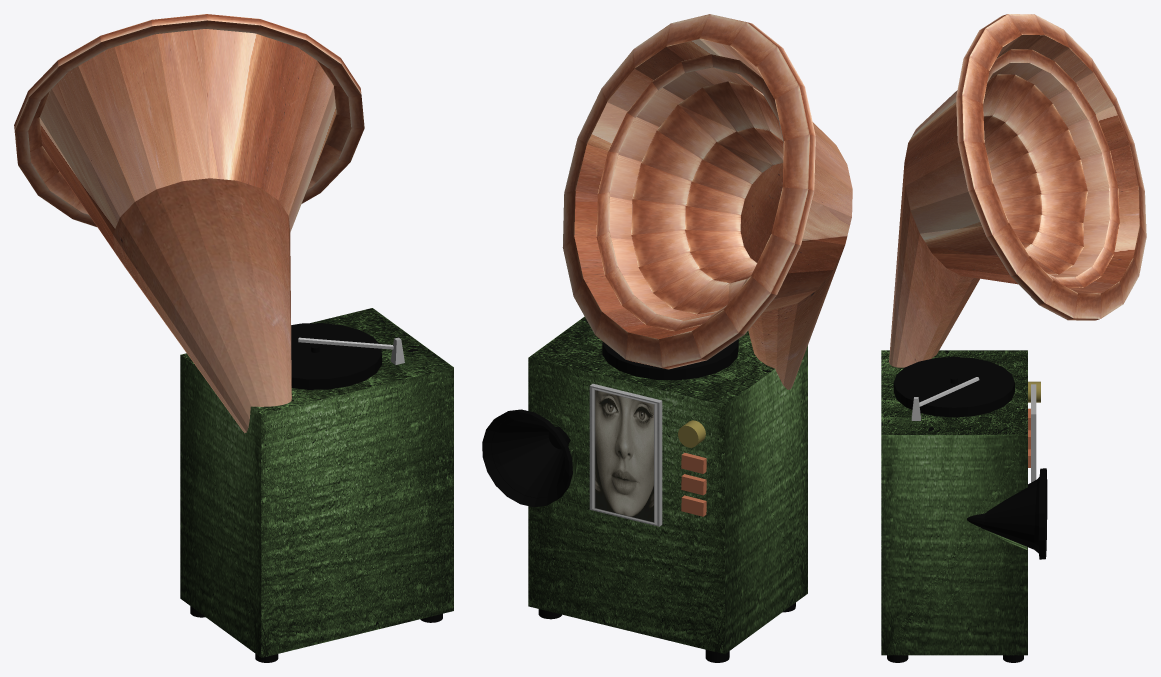
Rendered from stereo.fbx.
The picture shows the model from 3 angles, left to right: view 1: azimuth 30°, elevation 25°; view 2: azimuth 150°, elevation 25°; view 3: azimuth 270°, elevation 25°; orthographic projection. The views are drawn at different scales.
Parts seen in each view (by area): view 1: pCone4, pCone3, dial; view 2: pCone4, pCone3, screen, pCone2, dial, nob_volume; view 3: pCone4, pCone3, dial, pCone2, screen.
Boxes of the visible parts, <box> form: pCone4: <box>14,14,364,432</box>; pCone3: <box>180,308,453,657</box>; dial: <box>291,323,381,389</box>; pCone4: <box>562,14,852,389</box>; pCone3: <box>528,316,807,654</box>; screen: <box>589,383,662,526</box>; pCone2: <box>482,409,572,507</box>; dial: <box>602,339,738,380</box>; nob_volume: <box>678,420,705,447</box>; pCone4: <box>889,14,1146,367</box>; pCone3: <box>881,350,1027,655</box>; dial: <box>893,356,1014,417</box>; pCone2: <box>967,468,1047,559</box>; screen: <box>1031,384,1036,482</box>.
Bounding box in the file's own units: 7.82 × 13.16 × 5.71.
Materials: 12 (5 with a texture image).
